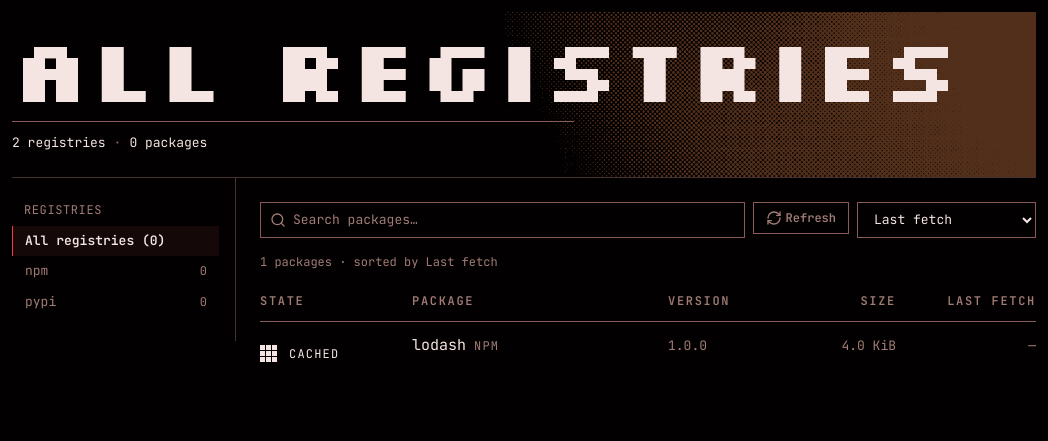
Test: PackageCatalog browsing › searches this instance and the upstreams, and marks where a row came from
Type "lo" into the field with placeholder "Search packages…" at coordinates (502, 220), box [260, 202, 745, 238]
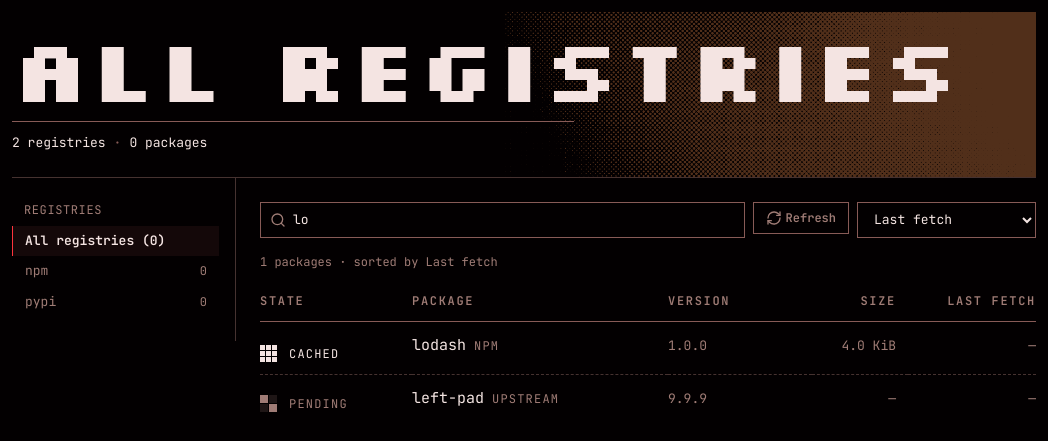
Expected: the row "Pending left-pad upstream 9.9.9 — —" is shown, [260, 374, 1036, 424]
